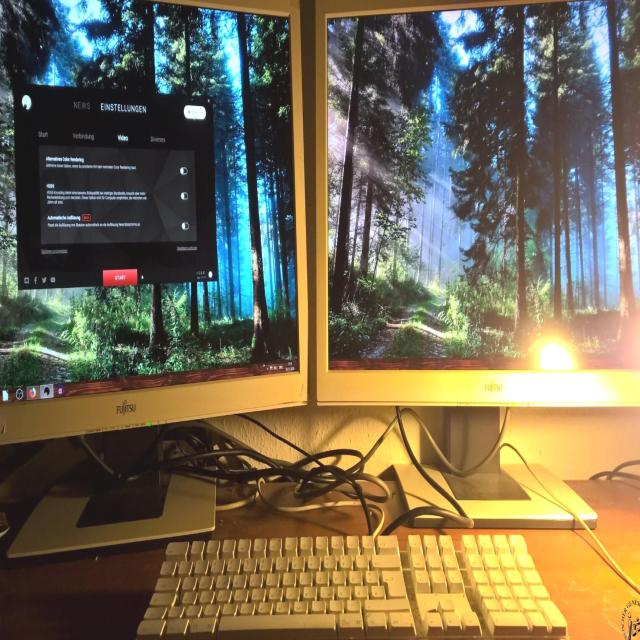keyboard: (130, 531, 569, 640)
